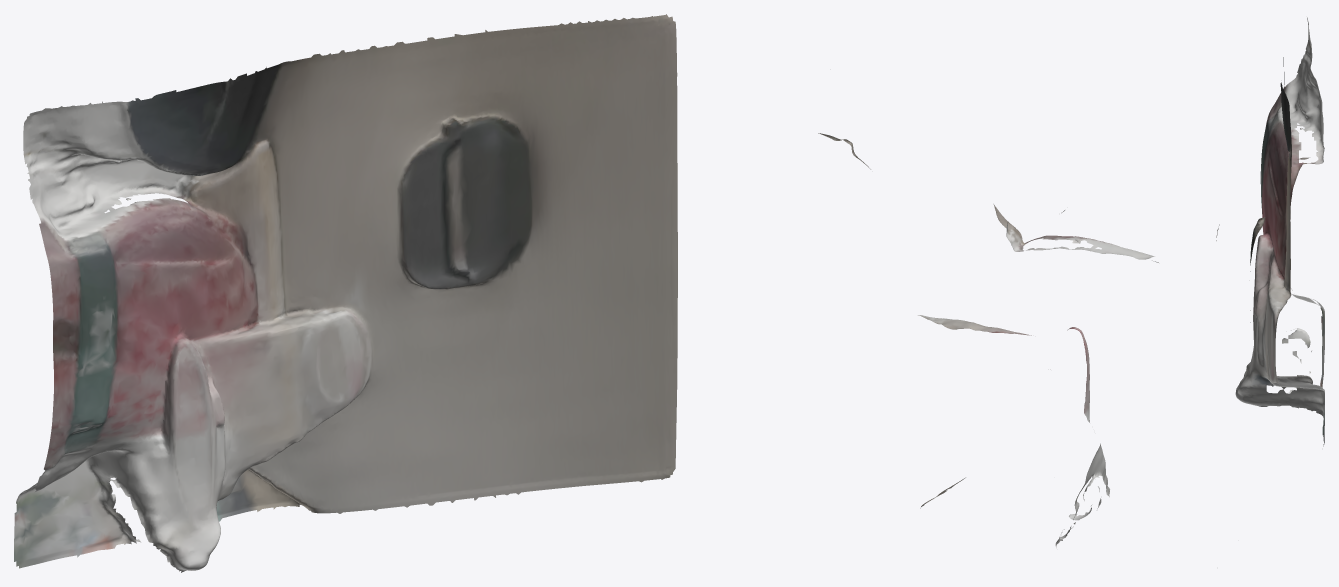
3 views of the same model, side by side, from view 1: azimuth 30°, elevation 25°; view 2: azimuth 150°, elevation 25°; view 3: azimuth 270°, elevation 25° (orthographic). The views are drawn at different scales.
Size of the model in its own units: 1.36 by 1.03 by 0.2953.
